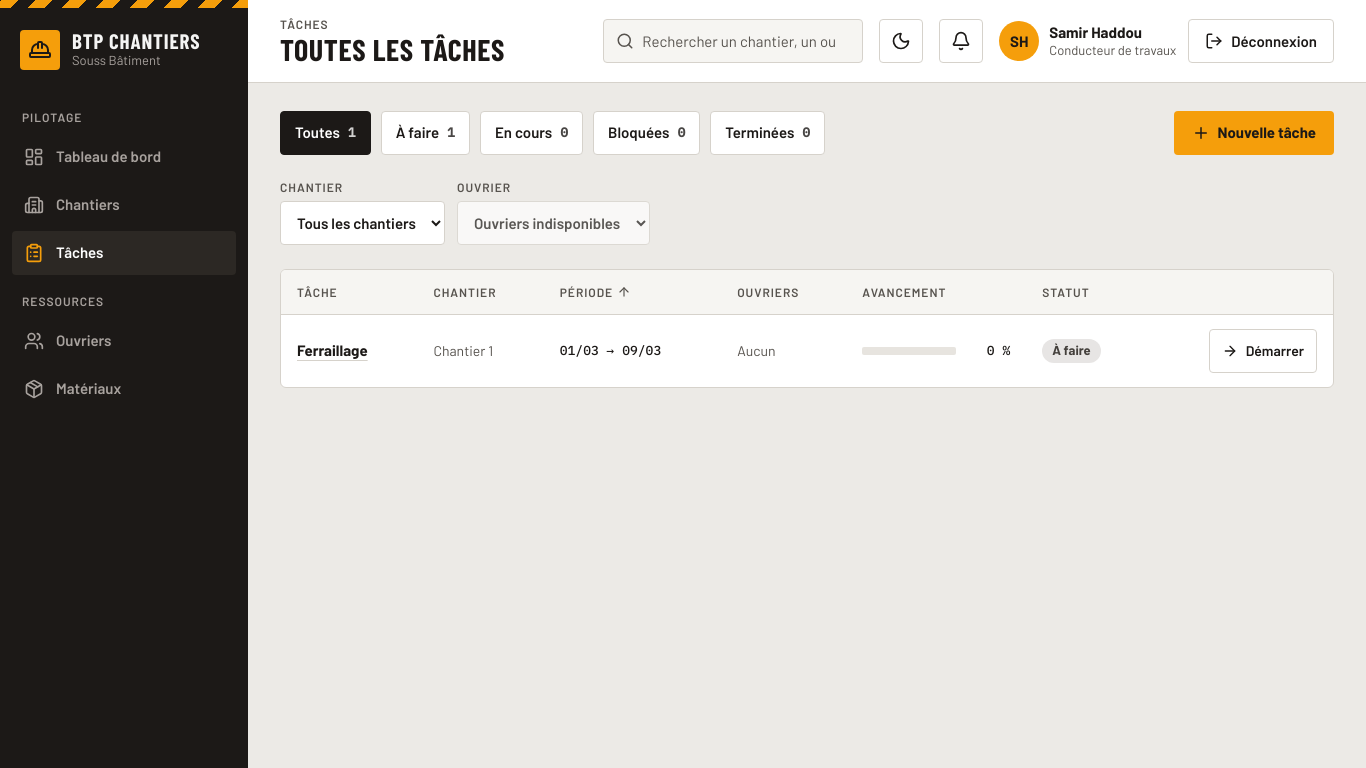
Test: Tâches sur l’API réelle › 409 de l’API au changement de statut : message affiché en toast
Click the button with aria-label "Démarrer la tâche Ferraillage" at (1263, 350), box x1=1209 y1=328 x2=1317 y2=372
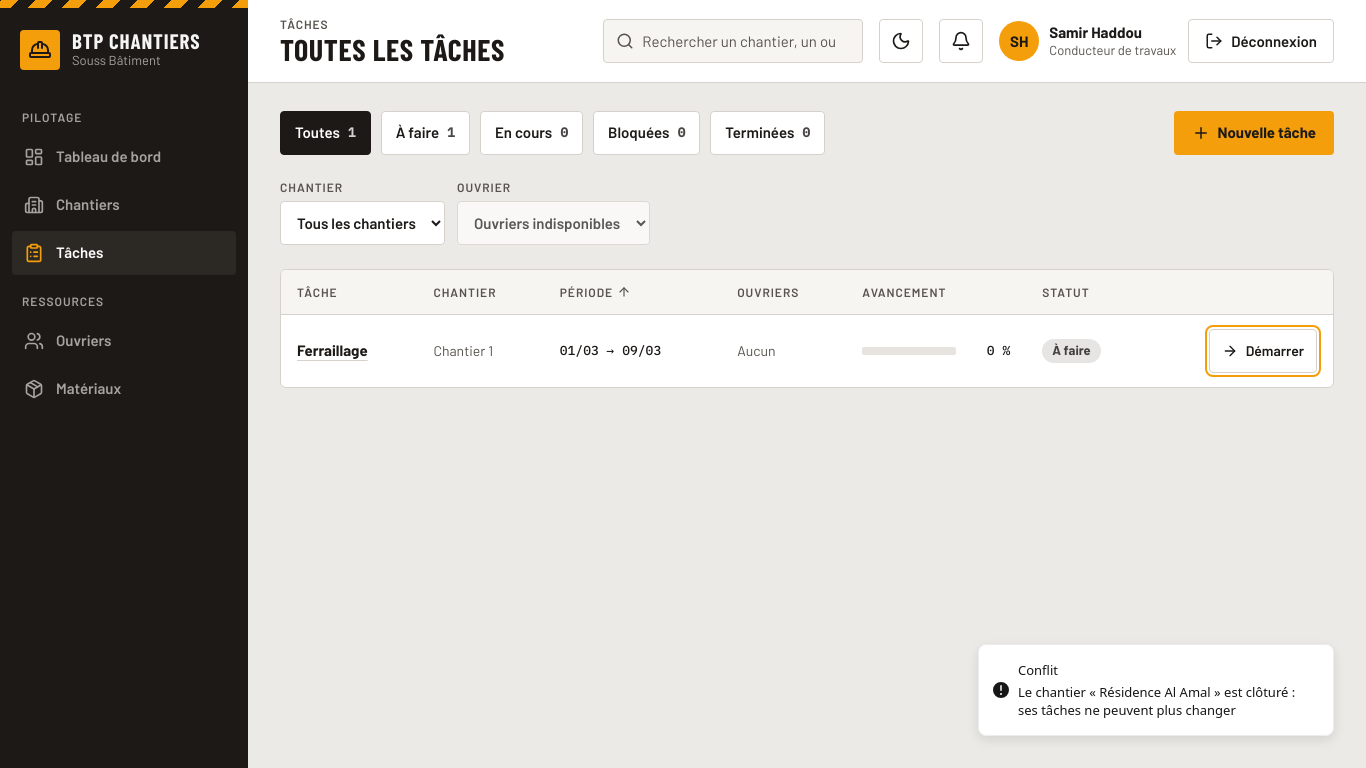
expect the text "Le chantier « Résidence Al Amal » est clôturé : ses tâches ne peuvent plus changer" is shown: met, box x1=1018 y1=683 x2=1295 y2=719
